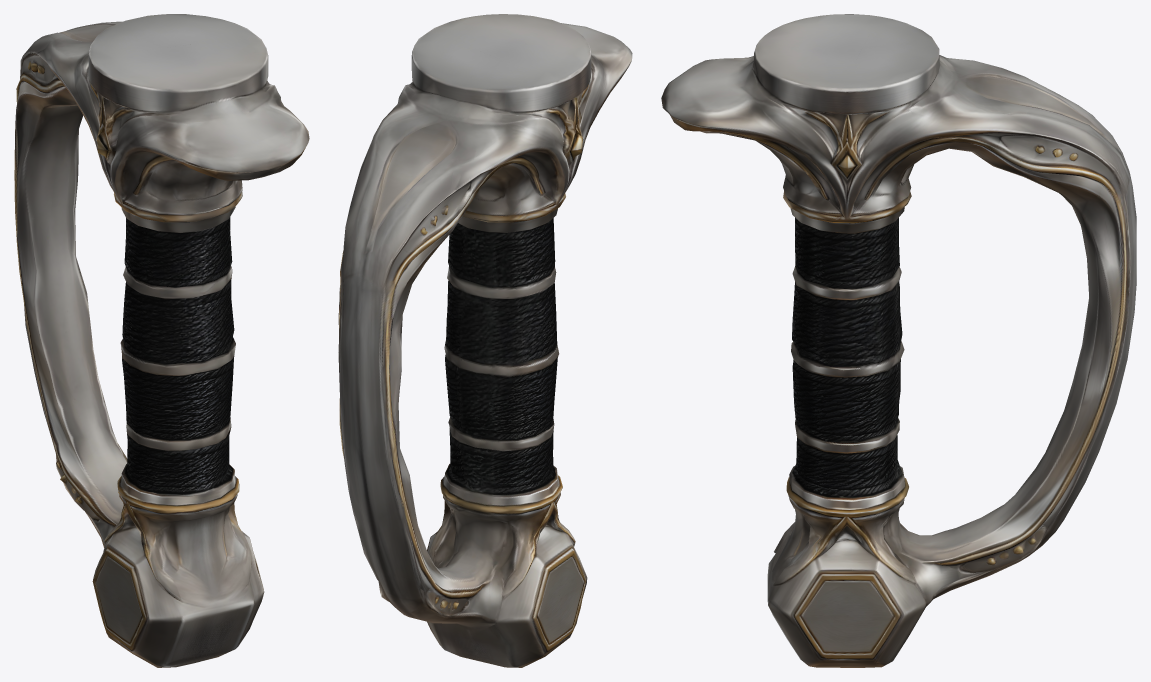
Rendered from hilt_twin_relics.glb.
3 renders of one model, left to right at view 1: azimuth 30°, elevation 25°; view 2: azimuth 150°, elevation 25°; view 3: azimuth 270°, elevation 25°, orthographic.
Parts seen in each view (by area): view 1: tripo_node_3b2fbba3-116f-4b81-b848-854b9bcdcf6d; view 2: tripo_node_3b2fbba3-116f-4b81-b848-854b9bcdcf6d; view 3: tripo_node_3b2fbba3-116f-4b81-b848-854b9bcdcf6d.
Part boxes in pixels (<box>): tripo_node_3b2fbba3-116f-4b81-b848-854b9bcdcf6d: <box>14,14,309,667</box>; tripo_node_3b2fbba3-116f-4b81-b848-854b9bcdcf6d: <box>338,14,632,667</box>; tripo_node_3b2fbba3-116f-4b81-b848-854b9bcdcf6d: <box>661,14,1136,667</box>.
Bounding box in the file's own units: 0.2846 × 1 × 0.7182.
1 material, 1 textured.
